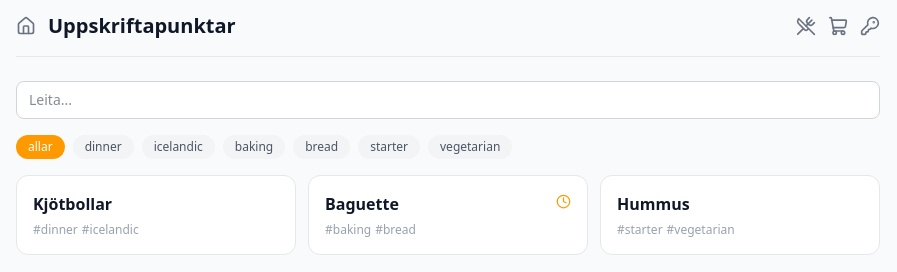
Scenario: Home page › filters by tag when a tag button is clicked
This screenshot has width=897, height=272.
Expected: the text "Kjötbollar" is shown, x1=33 y1=192 x2=112 y2=216
Step 1. Click the button "baking" → x=254, y=147, box x1=223 y1=135 x2=285 y2=159
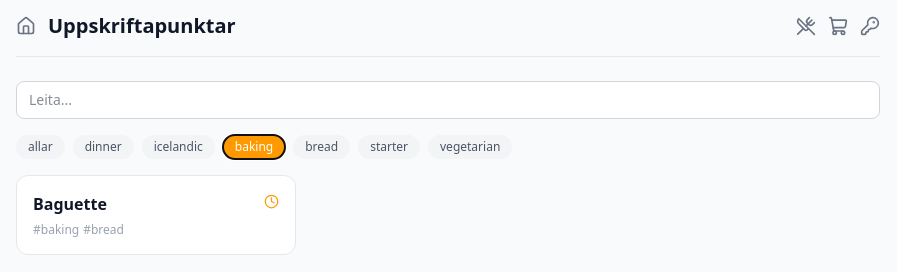
Expected: the text "Baguette" is shown, x1=33 y1=192 x2=107 y2=216
Result: the link "Kjötbollar" is gone
Result: the link "Hummus" is gone
